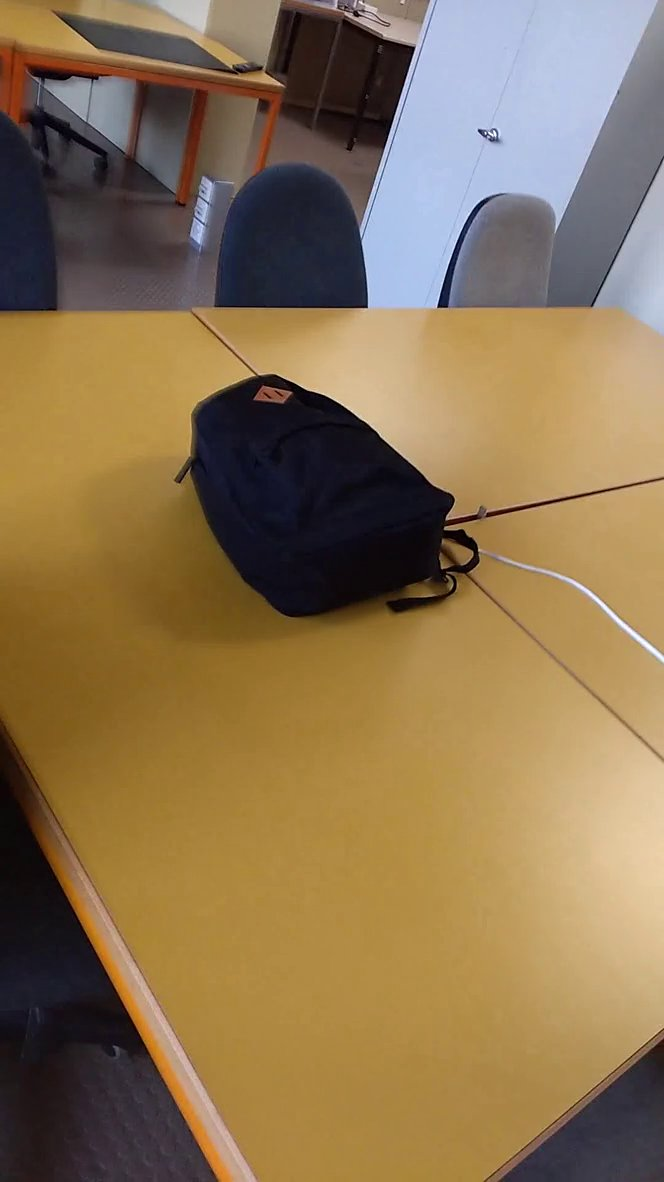bag: (174, 367, 484, 642)
chair: (204, 142, 390, 320), (431, 178, 568, 323)
